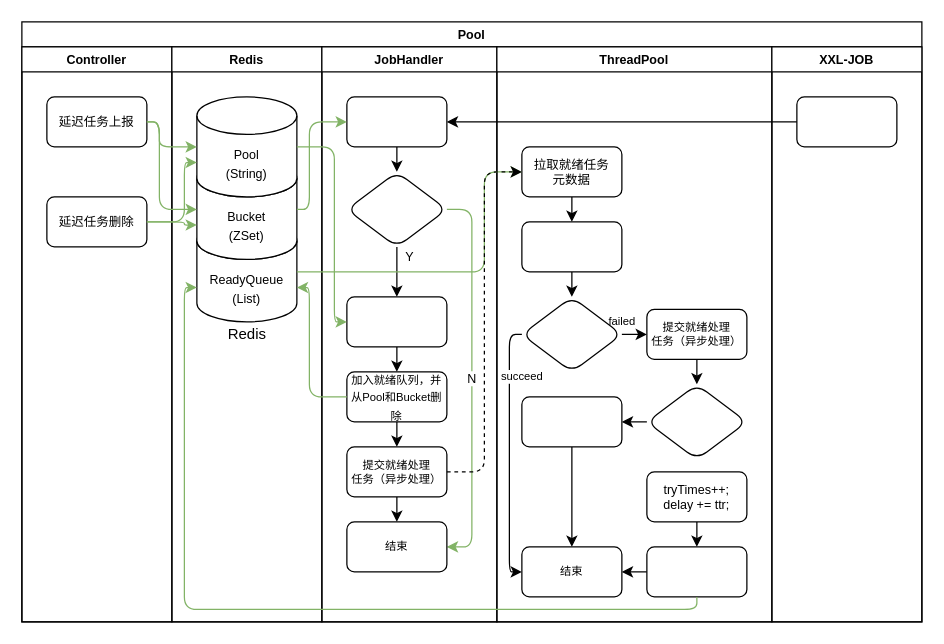
This 944x644 diagram has some shape labels left out. The centre of each missing label's shape, as x and y in pixels:
retryTimes 是否达到 重试上限: (x=696, y=421)
到期任务 存在？: (x=396, y=209)
处理结果: (x=571, y=334)
定时任务触发: (x=846, y=121)
执行业务处理: (x=571, y=246)
拉取任务元数据: (x=396, y=321)
按到期时间正序 拉取到期任务key: (x=396, y=121)
记录日志、告警: (x=571, y=421)
重新上报 延迟任务: (x=696, y=571)
